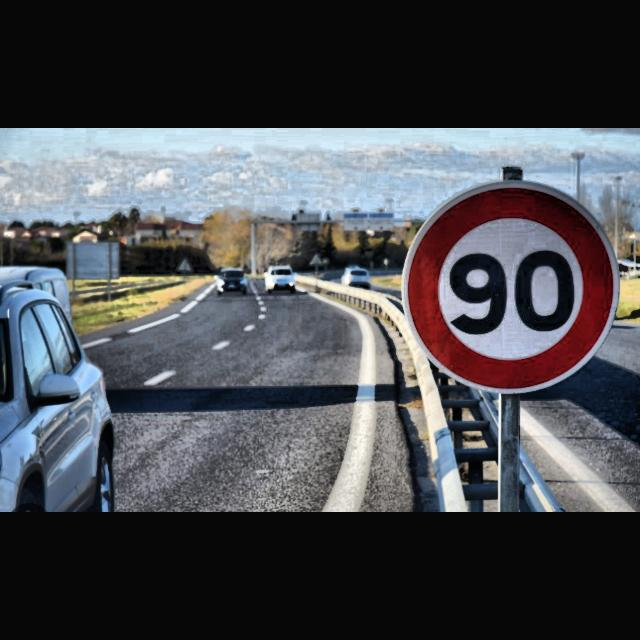speed_90: (400, 180, 620, 394)
